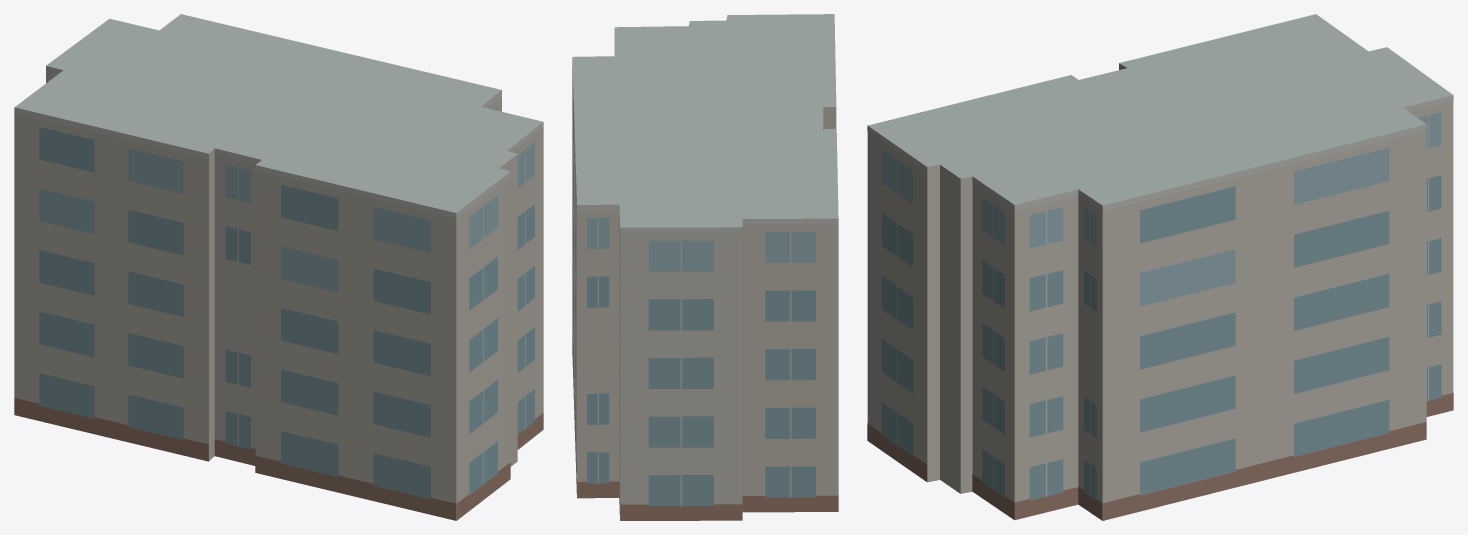
File: survey-upis-33018486.glb
The picture shows the model from 3 angles, left to right: view 1: azimuth 30°, elevation 25°; view 2: azimuth 150°, elevation 25°; view 3: azimuth 270°, elevation 25°; orthographic projection. The views are drawn at different scales.
Parts seen in each view (by area): view 1: survey-upis-33018486.tmp; view 2: survey-upis-33018486.tmp; view 3: survey-upis-33018486.tmp.
Part boxes in pixels (<box>): survey-upis-33018486.tmp: <box>14,14,543,520</box>; survey-upis-33018486.tmp: <box>572,14,838,520</box>; survey-upis-33018486.tmp: <box>867,14,1453,520</box>.
Size of the model in its own units: 16.96 by 13 by 21.91.
